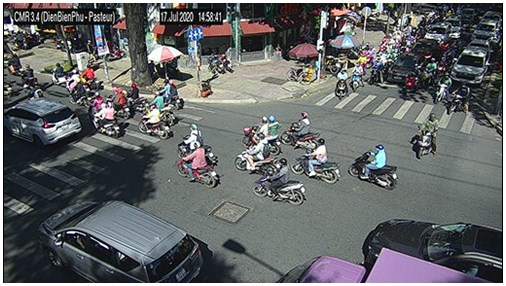xe_hoi: (37, 200, 205, 283), (362, 219, 503, 283), (4, 99, 82, 146), (450, 39, 492, 85), (472, 11, 499, 48), (387, 52, 417, 84), (424, 22, 452, 44), (413, 39, 438, 61), (444, 14, 462, 39)
xe_may: (252, 158, 305, 205), (347, 144, 399, 191), (291, 138, 341, 185), (177, 141, 219, 188), (234, 133, 279, 174), (176, 122, 217, 166), (241, 114, 281, 156), (280, 111, 321, 150), (412, 113, 440, 158), (138, 104, 171, 140), (93, 102, 122, 137), (148, 90, 174, 123), (106, 84, 129, 118), (159, 78, 182, 110), (447, 81, 470, 113), (126, 83, 148, 114), (69, 77, 91, 106), (21, 64, 40, 91), (435, 71, 451, 103), (421, 57, 436, 88), (335, 66, 348, 101), (81, 65, 99, 90), (369, 54, 383, 84), (350, 60, 363, 92), (7, 52, 23, 77), (403, 72, 417, 100), (87, 93, 102, 119), (52, 62, 68, 86), (437, 52, 449, 77)
xe_tai: (275, 246, 493, 283)
